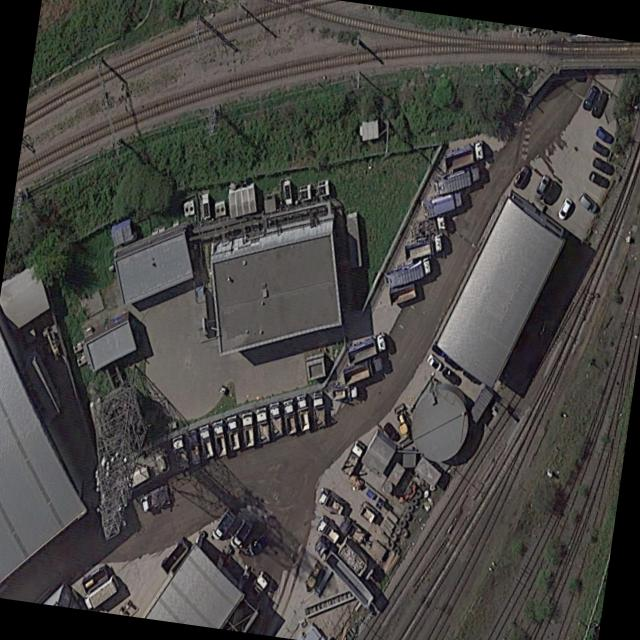large-vehicle: (313, 533, 376, 609), (432, 161, 480, 196), (384, 256, 432, 288), (342, 352, 384, 386), (421, 186, 465, 218), (346, 332, 387, 364), (445, 139, 484, 172), (409, 211, 447, 244), (405, 231, 443, 261), (339, 438, 367, 478), (243, 569, 271, 607), (317, 485, 349, 516), (209, 506, 237, 540), (139, 483, 171, 512), (314, 513, 343, 545), (228, 515, 255, 549), (170, 433, 190, 471), (294, 391, 312, 432), (253, 405, 271, 445), (266, 399, 284, 438), (211, 418, 228, 459), (185, 428, 202, 466), (283, 397, 299, 437), (240, 410, 256, 448), (331, 380, 358, 402), (313, 390, 327, 430), (199, 424, 214, 460), (226, 413, 240, 451)
small-vehicle: (245, 531, 271, 559), (590, 88, 609, 119), (542, 179, 561, 206), (578, 191, 599, 214), (582, 84, 600, 110), (593, 155, 615, 176), (533, 173, 550, 199), (513, 164, 531, 188), (556, 196, 573, 221), (443, 351, 463, 371), (382, 420, 400, 442), (441, 364, 459, 385), (596, 124, 614, 145), (463, 365, 482, 384), (590, 170, 610, 188), (592, 139, 610, 156), (426, 352, 442, 370), (432, 342, 446, 357)
storage-tank: (406, 379, 472, 466)
